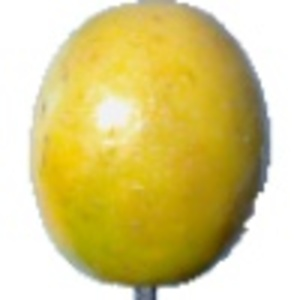maracujá: (26, 1, 274, 300)
